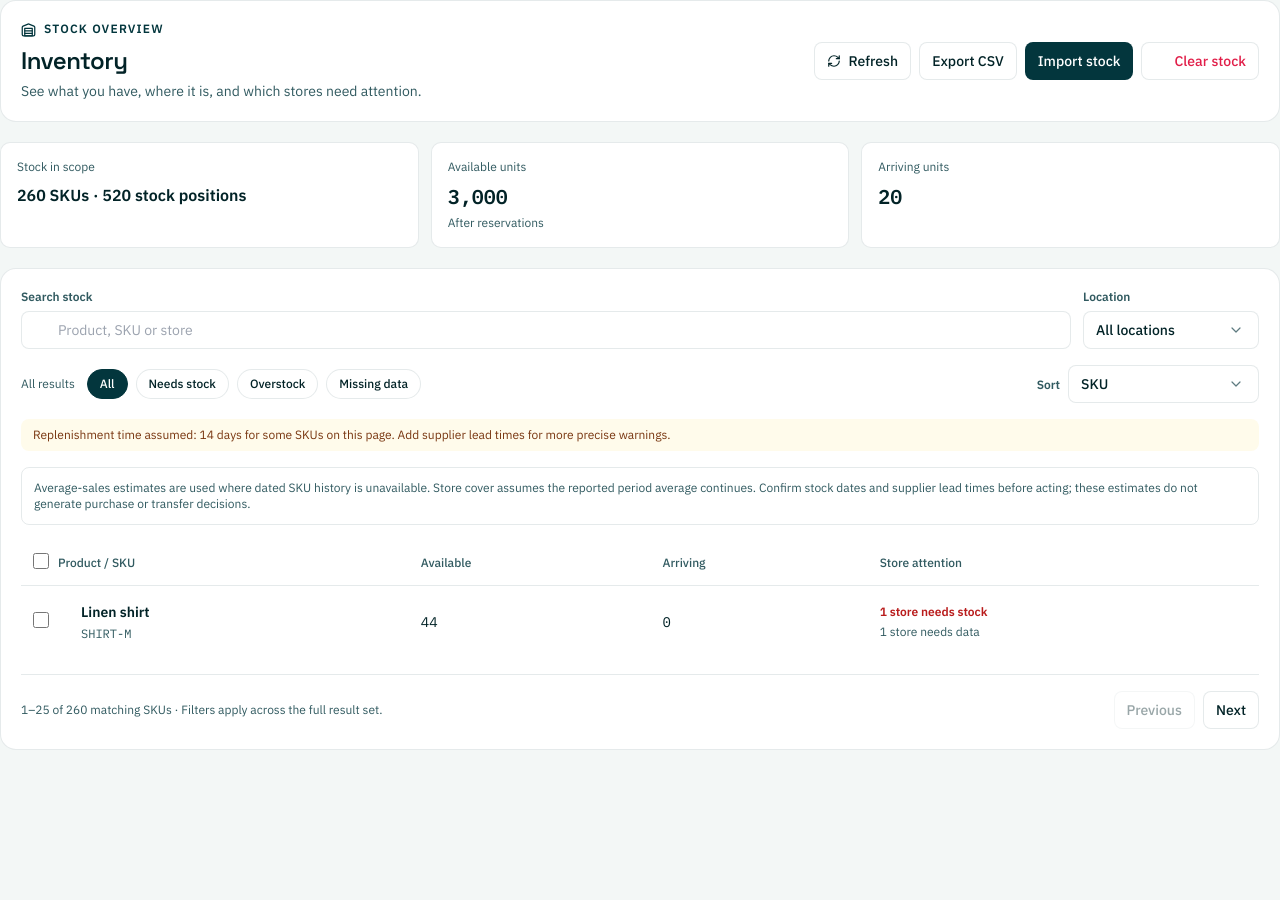
labels period-average cover as an estimate rather than a model forecast
The image size is (1280, 900).
What coordinates should you click on to do the following:
click the button with aria-label "show stores for shirt-m"
I would click on:
 (104, 622)
Its box is [58,602,150,642].
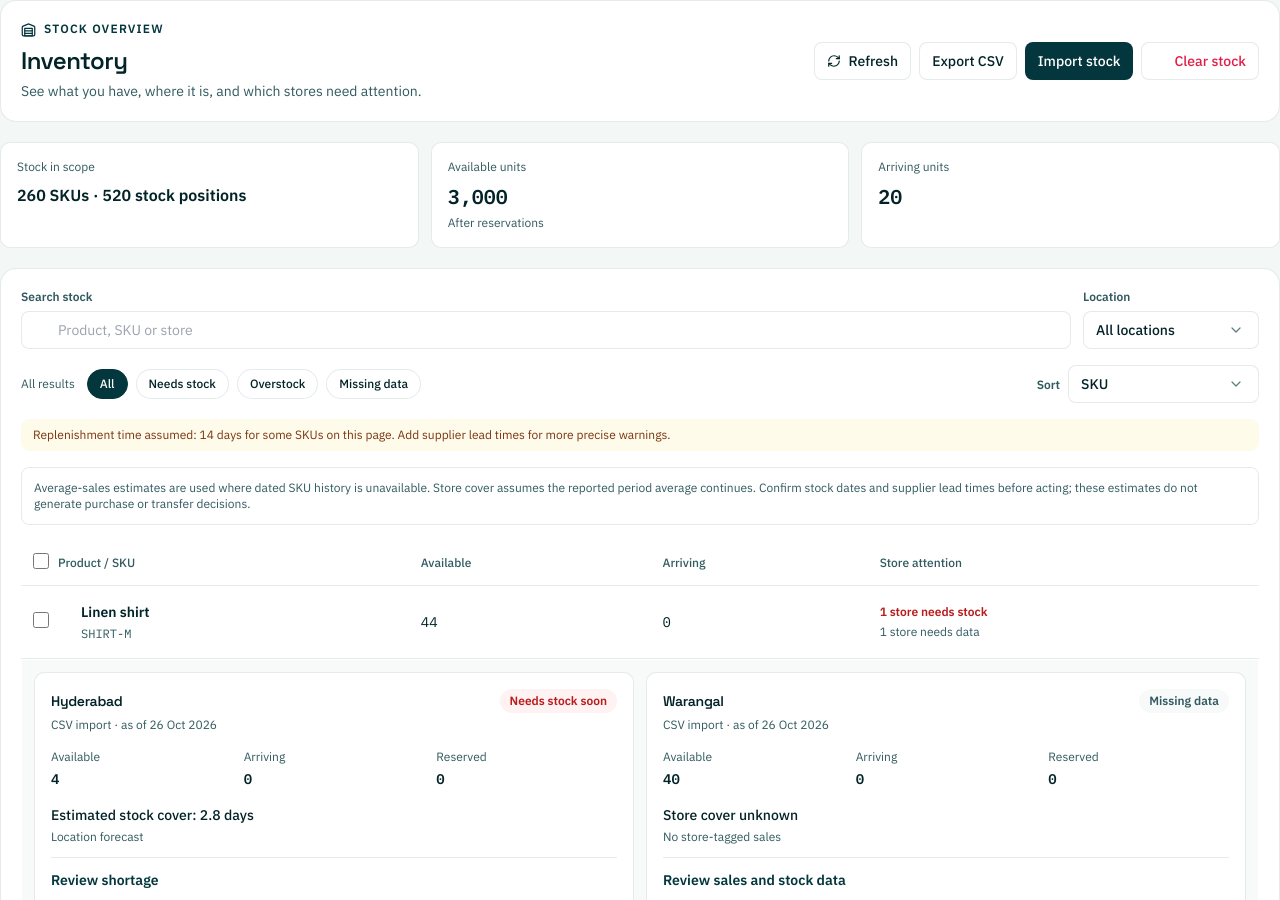
Expected: the text "Average-sales estimates are used" is shown, [34,480,1198,511]
Now the text "Estimated stock cover: 2.8 days" is shown, box [51,806,254,824]
